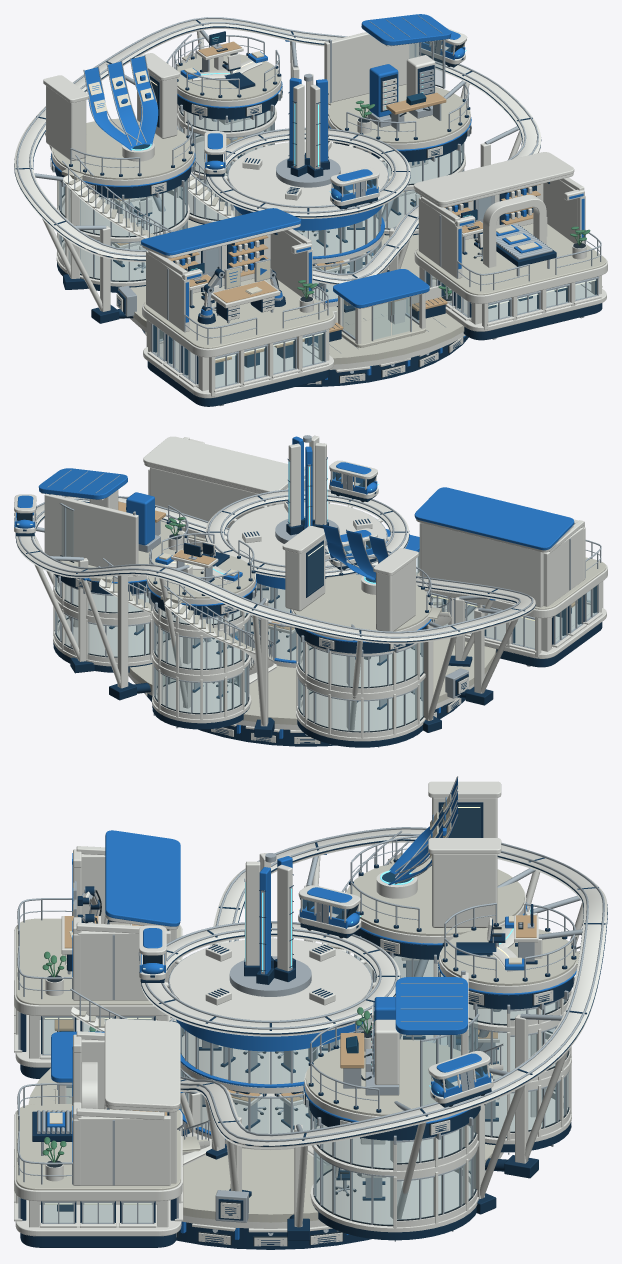
The model's file is bytedance-refined-v2.glb.
3 views of the same model, one above another, from view 1: azimuth 30°, elevation 25°; view 2: azimuth 150°, elevation 25°; view 3: azimuth 270°, elevation 25° (orthographic). The views are drawn at different scales.
Visible parts, largest first — view 1: hub_porcelain (×3), hub_brushed_aluminum (×2), hub_mineral_floor, hub_blue_enamel (×3), hub_glazing, hub_service_navy (×2), hub_worktop, hub_content_card, hub_seals, hub_plant, hub_screen; view 2: hub_porcelain (×4), hub_brushed_aluminum (×2), hub_glazing, hub_blue_enamel (×3), hub_service_navy, hub_mineral_floor, hub_seals, hub_worktop; view 3: hub_porcelain (×5), hub_brushed_aluminum (×2), hub_mineral_floor, hub_glazing, hub_blue_enamel (×5), hub_service_navy (×2), hub_seals, hub_worktop, hub_plant, hub_content_card.
Part boxes in pixels (<box>): hub_porcelain (×3): <box>14,19,607,398</box>; hub_brushed_aluminum (×2): <box>16,15,601,405</box>; hub_mineral_floor: <box>52,54,606,364</box>; hub_blue_enamel (×3): <box>51,14,584,379</box>; hub_glazing: <box>59,40,596,387</box>; hub_service_navy (×2): <box>14,20,602,406</box>; hub_worktop: <box>116,41,540,363</box>; hub_content_card: <box>88,51,538,294</box>; hub_seals: <box>52,48,585,384</box>; hub_plant: <box>297,100,590,299</box>; hub_screen: <box>133,33,476,272</box>; hub_porcelain (×4): <box>14,435,607,743</box>; hub_brushed_aluminum (×2): <box>18,435,601,747</box>; hub_glazing: <box>56,506,596,731</box>; hub_blue_enamel (×3): <box>38,436,574,738</box>; hub_service_navy: <box>15,496,602,747</box>; hub_mineral_floor: <box>59,521,606,724</box>; hub_seals: <box>54,534,468,743</box>; hub_worktop: <box>118,501,577,630</box>; hub_porcelain (×5): <box>14,781,607,1246</box>; hub_brushed_aluminum (×2): <box>17,776,604,1245</box>; hub_mineral_floor: <box>16,857,579,1222</box>; hub_glazing: <box>44,805,568,1224</box>; hub_blue_enamel (×5): <box>47,778,576,1239</box>; hub_service_navy (×2): <box>20,802,607,1249</box>; hub_seals: <box>47,890,569,1246</box>; hub_worktop: <box>54,915,536,1115</box>; hub_plant: <box>42,951,374,1162</box>; hub_content_card: <box>49,794,521,1123</box>.
Size of the model in its own units: 19.1 by 9.69 by 16.22.
